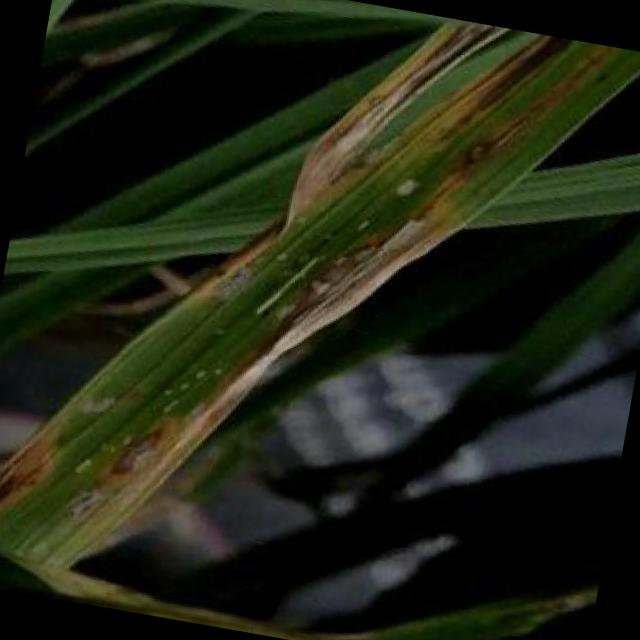Rice_Blast: (92, 412, 180, 484), (46, 470, 114, 521)
